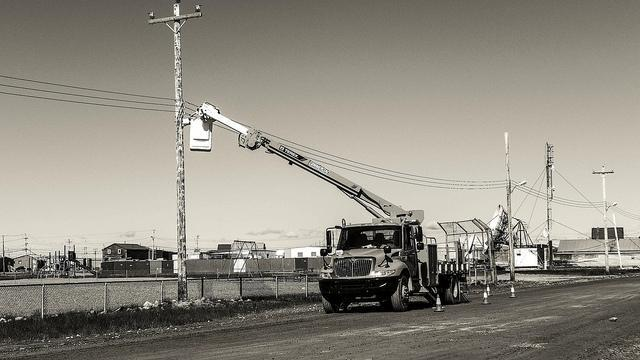truck: (182, 101, 473, 314)
